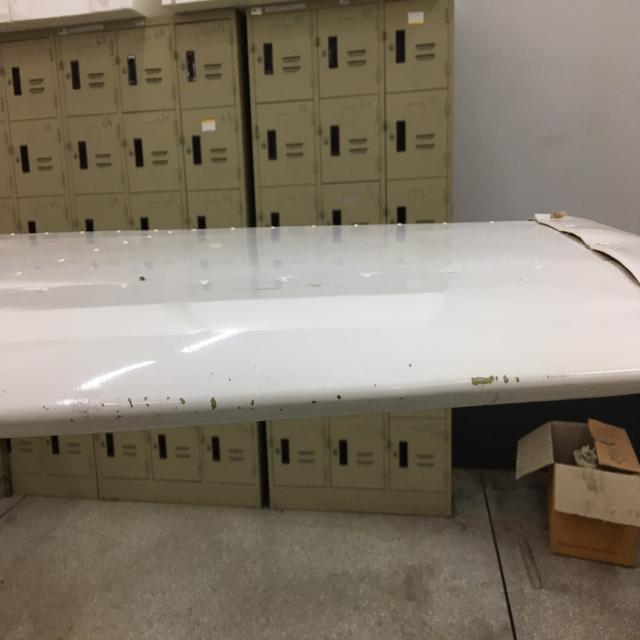Rupture: (22, 358, 540, 432)
